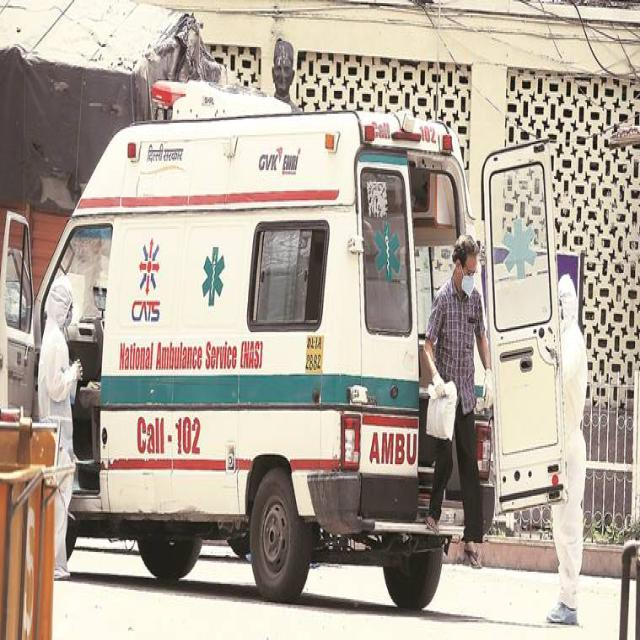emergency: (0, 83, 474, 608), (475, 142, 565, 525), (476, 357, 484, 395)
